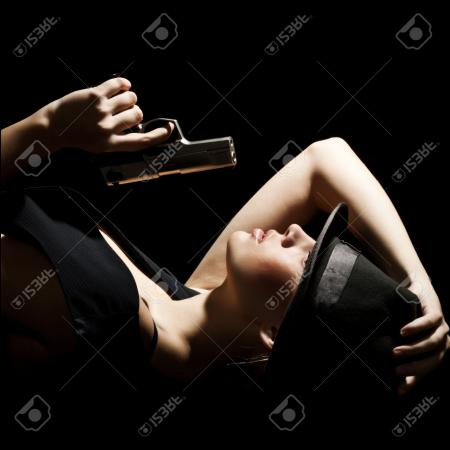Pistol: (81, 70, 246, 194)
